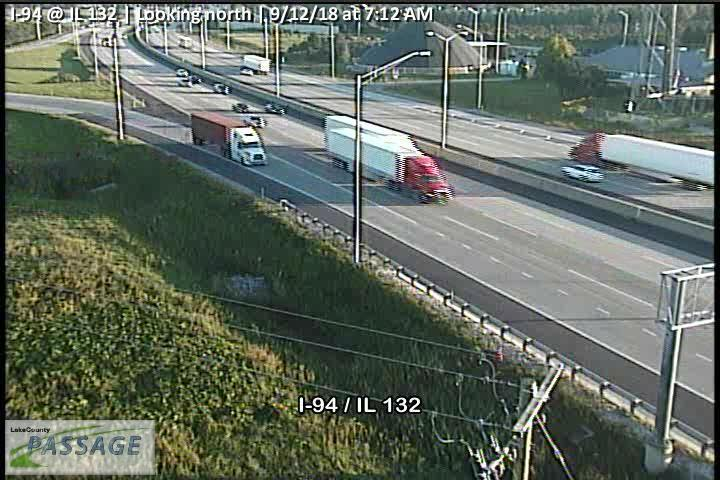Sedan: (562, 163, 603, 181), (243, 114, 264, 127), (265, 102, 284, 114), (232, 102, 247, 111)
Truck: (324, 128, 455, 204), (568, 131, 714, 190), (191, 110, 268, 167), (242, 53, 271, 72)
